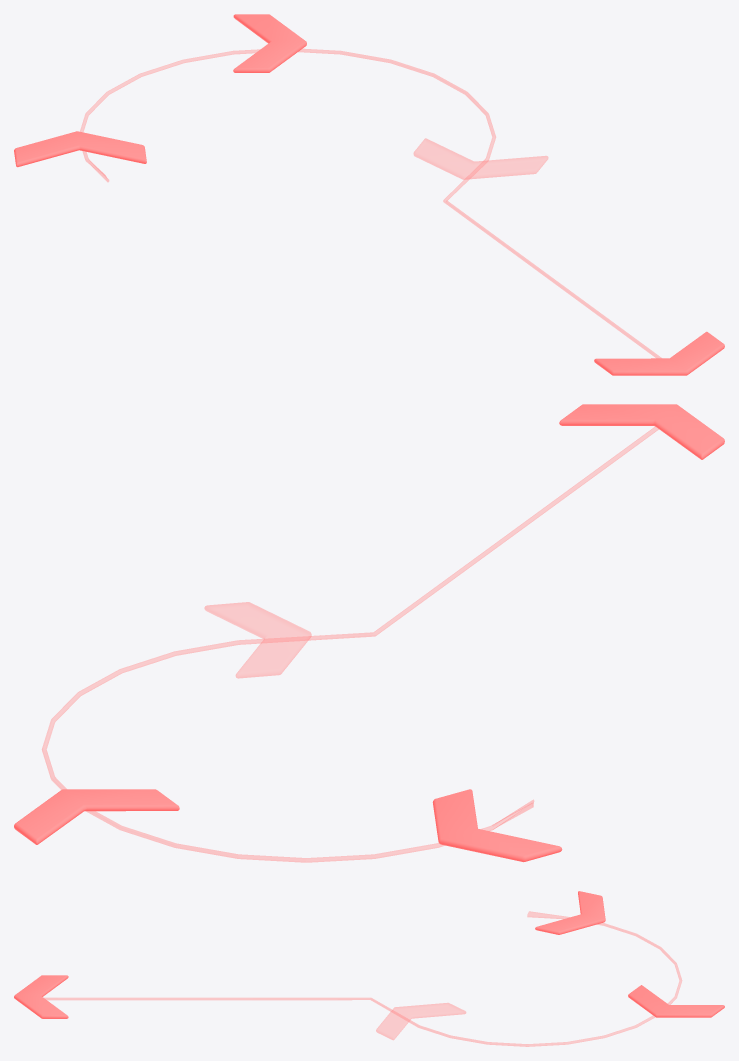
The model's file is glowing arrows.glb.
3 renders of one model, top to bottom at view 1: azimuth 30°, elevation 25°; view 2: azimuth 150°, elevation 25°; view 3: azimuth 270°, elevation 25°, orthographic. The views are drawn at different scales.
Parts seen in each view (by area): view 1: Cylinder, Plane.006, Plane.005, Plane.004, Plane.002; view 2: Cylinder, Plane.002, Plane.005, Plane.006, Plane.004; view 3: Cylinder, Plane.002, Plane.006, Plane.005, Plane.004.
Boxes of the visible parts, x1,y1,x2,y2 form: Cylinder: (80, 49, 661, 357); Plane.006: (14, 131, 146, 167); Plane.005: (594, 331, 724, 375); Plane.004: (413, 138, 548, 179); Plane.002: (233, 14, 306, 72); Cylinder: (42, 427, 658, 862); Plane.002: (14, 789, 179, 844); Plane.005: (559, 404, 724, 459); Plane.006: (432, 789, 562, 862); Plane.004: (204, 602, 311, 678); Cylinder: (44, 911, 681, 1046); Plane.002: (628, 985, 724, 1017); Plane.006: (535, 891, 605, 934); Plane.005: (14, 975, 68, 1018); Plane.004: (376, 1003, 465, 1039).
Size of the model in its own units: 31.51 by 0.6124 by 62.72.
